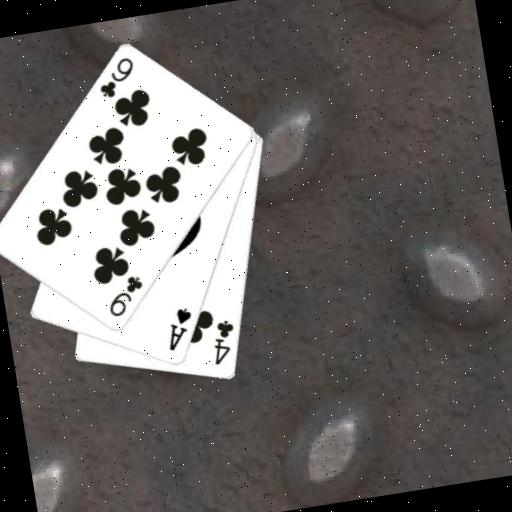4C: (205, 316, 241, 367)
9C: (101, 271, 149, 320), (91, 53, 139, 102)
AS: (159, 304, 198, 353)
